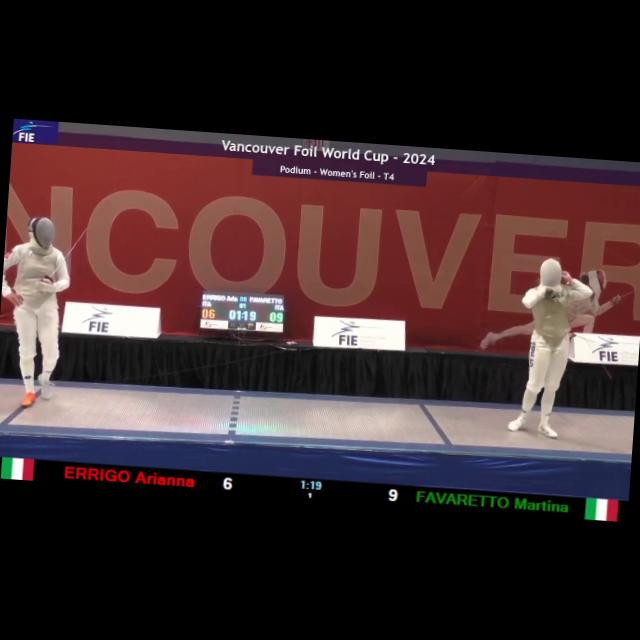blade: (544, 292, 621, 382), (44, 217, 94, 288)
